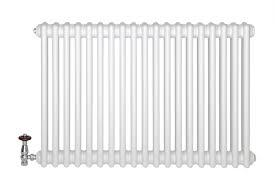Radiator: (16, 18, 259, 171)
